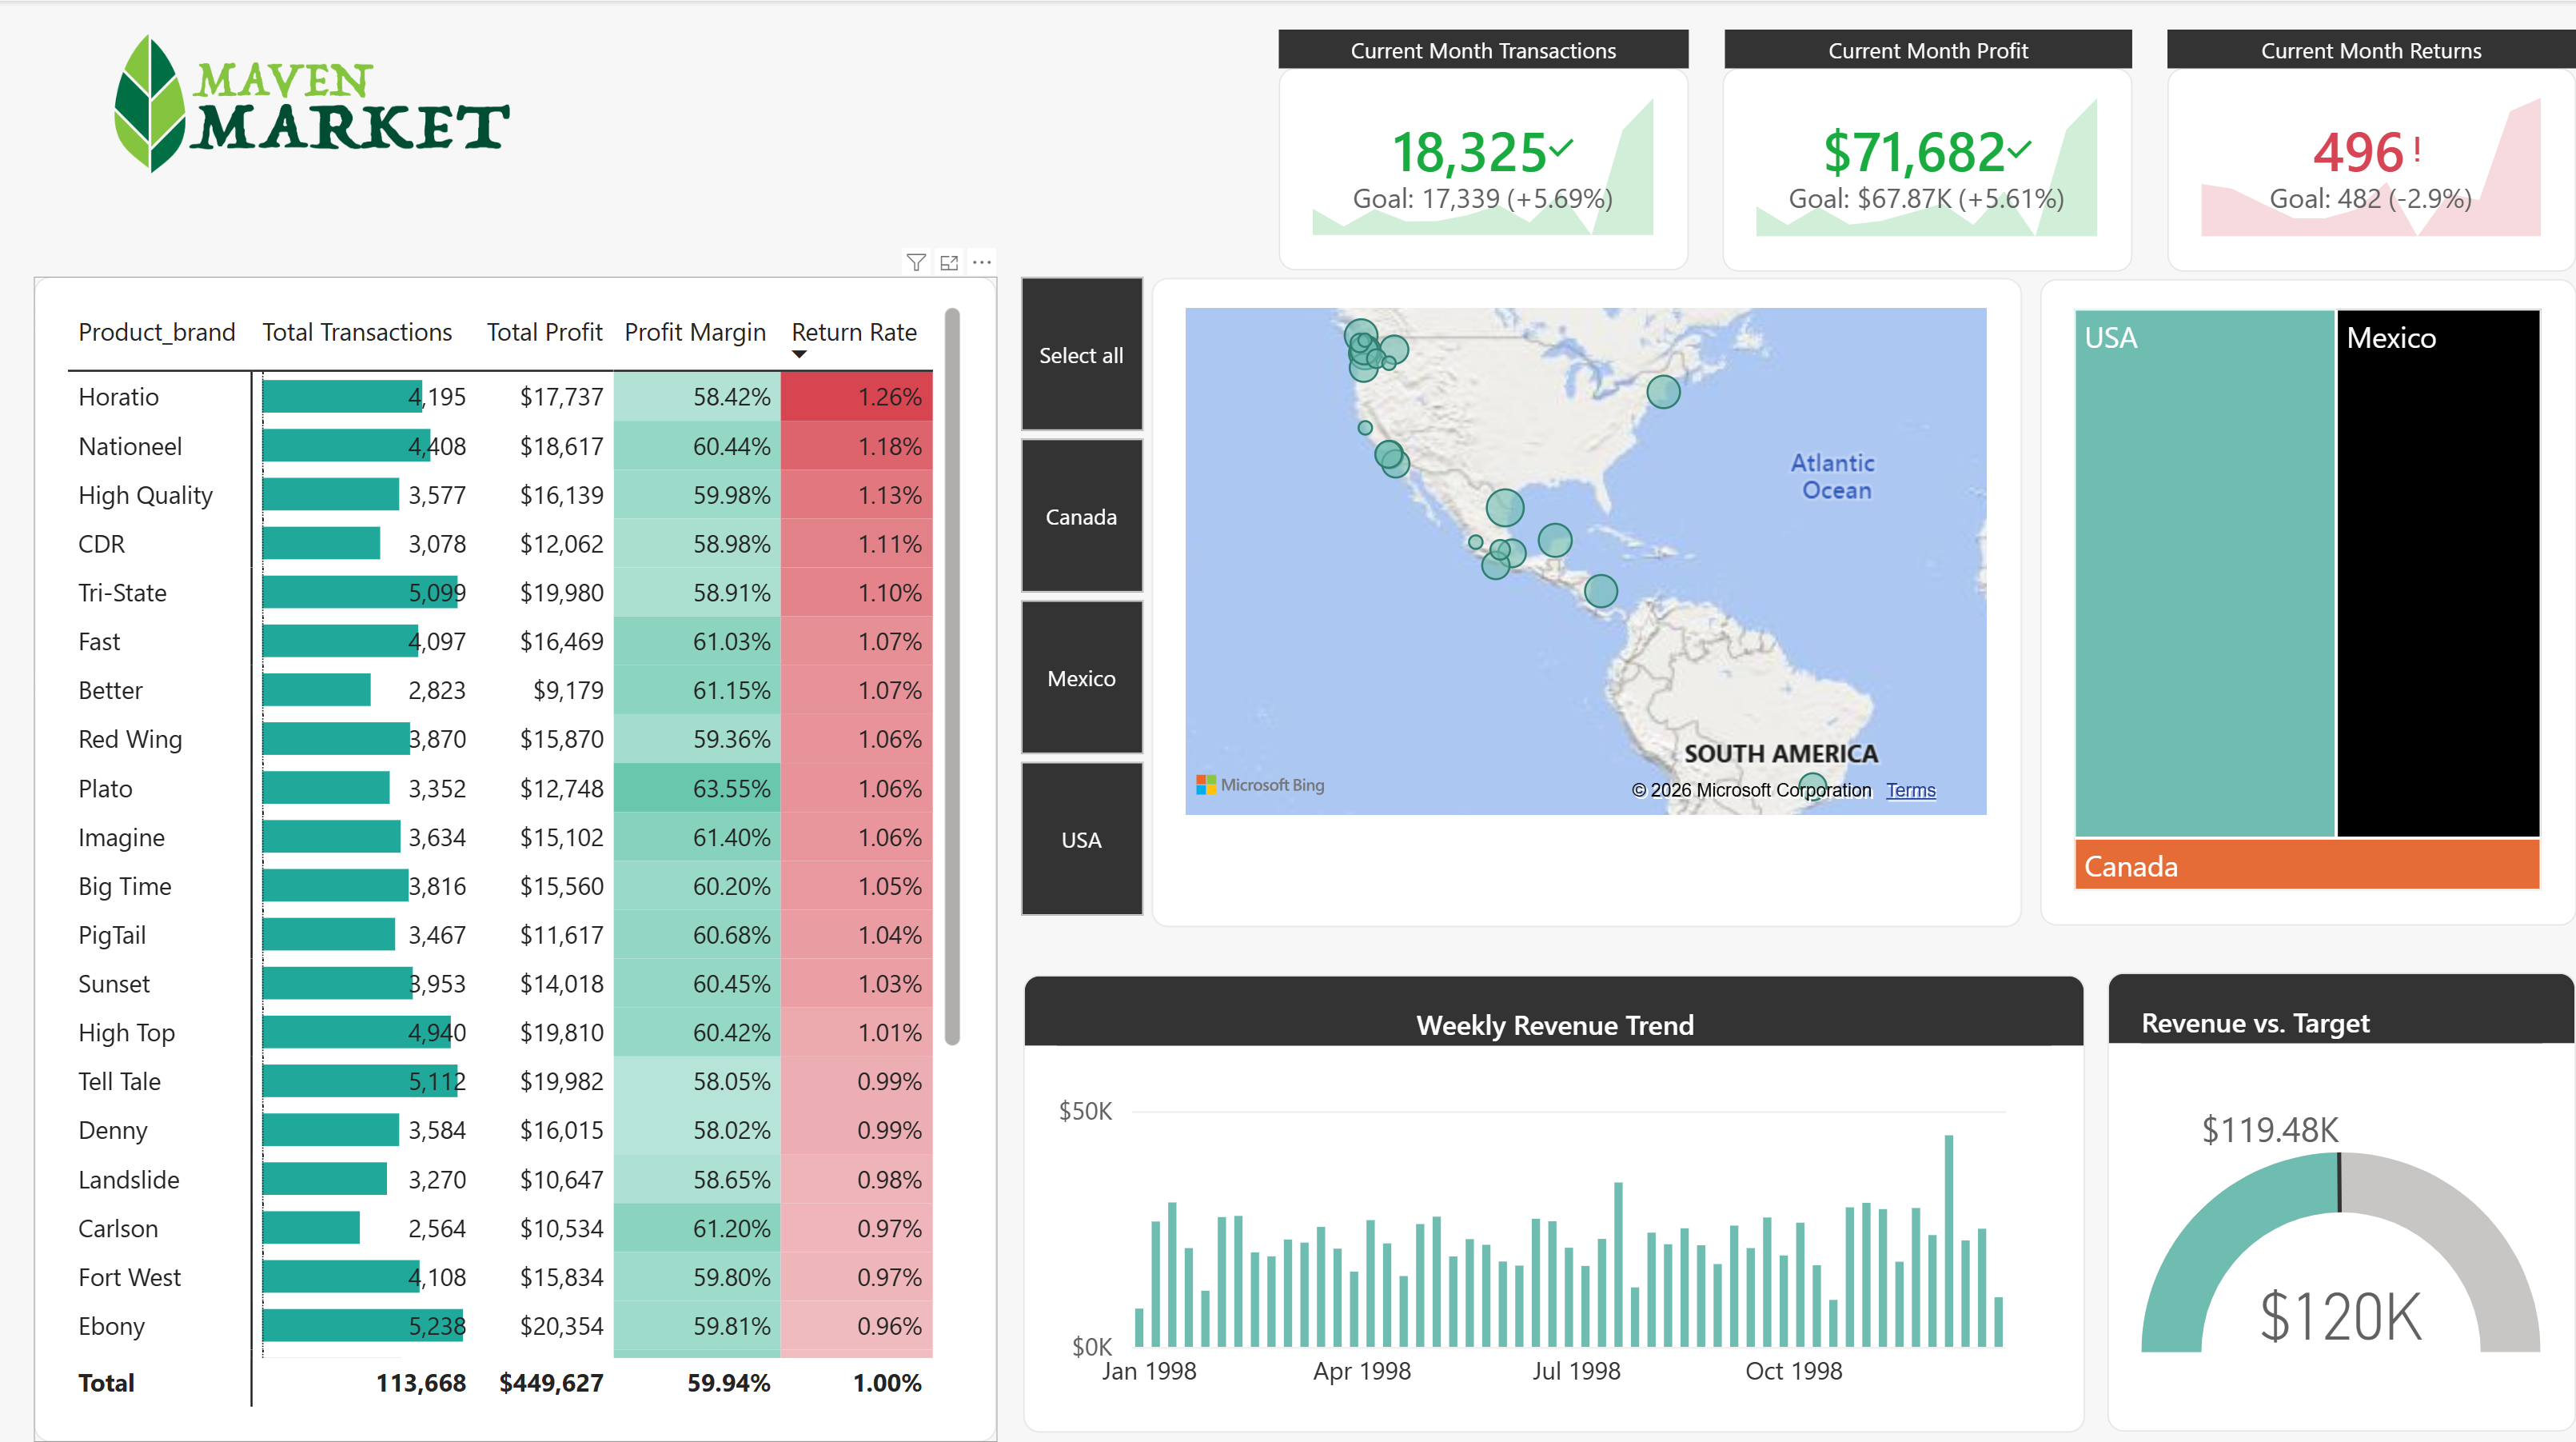

The dashboard page shown, as its layout file describes it:
{"tool":"powerbi","page":{"name":"Topline Performance","canvas":[1280,720],"ordinal":0},"visuals":[{"type":"image","box":[40.4,11,226.8,77.8],"z":0},{"type":"kpi","title":"Current Month Transaction","fields":{"Goal":["Measures (2).Last Month Transactions"],"Indicator":["Measures (2).Total Transactions"],"TrendLine":["Calendar.Start of Month"]},"box":[629.3,32.9,201.4,99.5],"z":0,"group":"g1"},{"type":"kpi","title":"Current Month Profit","fields":{"Goal":["Measures (2).Last Month Profit"],"Indicator":["Measures (2).Total Profit"],"TrendLine":["Calendar.Start of Month"]},"box":[847.6,32.9,201.4,100.1],"z":0,"group":"g2"},{"type":"kpi","title":"Current Month Transaction","fields":{"Goal":["Measures (2).Last Month Returns"],"Indicator":["Measures (2).Total Returns"],"TrendLine":["Calendar.Start of Month"]},"box":[1065.9,32.9,200.8,100.1],"z":0,"group":"g3"},{"type":"shape","box":[629.3,13.9,201.4,19],"z":1000,"group":"g1"},{"type":"shape","box":[848.8,13.9,200.2,19],"z":1000,"group":"g2"},{"type":"shape","box":[1065.9,13.9,200.8,19],"z":1000,"group":"g3"},{"type":"pivotTable","fields":{"Rows":["Products.product_brand"],"Values":["Measures (2).Total Transactions","Measures (2).Total Profit","Measures (2).Profit Margin","Measures (2).Return Rate"]},"box":[18,135.3,472.9,572.1],"z":1000},{"type":"group","id":"g1","title":"Group 1","box":[629.3,13.9,201.4,118.5],"z":2000},{"type":"group","id":"g2","title":"Group 2","box":[847.6,13.9,201.4,119.1],"z":3000},{"type":"group","id":"g3","title":"Group 3","box":[1065.9,13.9,200.8,119.1],"z":4000},{"type":"map","fields":{"Category":["Stores.store_city"],"Size":["Measures (2).Total Transactions"]},"box":[567.2,135.9,427.6,318.8],"z":5000},{"type":"slicer","fields":{"Values":["Stores.store_country"]},"box":[481.9,133.5,100.1,317.6],"z":6000},{"type":"treemap","fields":{"Group":["Stores.store_country","Stores.store_state","Stores.store_city","Stores.store_id"],"Values":["Measures (2).Total Revenue"]},"box":[1003.2,136.8,263.3,317.4],"z":7000},{"type":"columnChart","title":"Weekly Revenue Trend","fields":{"Category":["Calendar.Start of Week"],"Y":["Measures (2).Total Revenue"]},"box":[504.2,478.2,521.5,224.9],"z":8000},{"type":"gauge","title":"Revenue vs. Target","fields":{"TargetValue":["Measures (2).Revenue Target"],"Y":["Measures (2).Total Revenue"]},"box":[1036.4,477.2,230,225.2],"z":9000}]}

Visuals, with their boxes in screenshot pixels (x1, y1, x2, y2), scaled from the page's 1280x720 canvas onto the 2576x1442 screenshot:
image: region(82, 22, 538, 178)
"Current Month Transaction" kpi: region(1266, 66, 1672, 266)
"Current Month Profit" kpi: region(1706, 66, 2111, 266)
"Current Month Transaction" kpi: region(2145, 66, 2550, 266)
shape: region(1266, 28, 1672, 66)
shape: region(1709, 28, 2111, 66)
shape: region(2145, 28, 2550, 66)
pivotTable - Products.product_brand x Measures (2).Total Transactions: region(36, 271, 988, 1416)
"Group 1" group: region(1266, 28, 1672, 266)
"Group 2" group: region(1706, 28, 2111, 266)
"Group 3" group: region(2145, 28, 2550, 266)
map - Stores.store_city x Measures (2).Total Transactions: region(1142, 272, 2002, 911)
slicer - Stores.store_country: region(970, 267, 1171, 904)
treemap - Stores.store_country x Stores.store_state: region(2019, 274, 2549, 909)
"Weekly Revenue Trend" columnChart: region(1015, 957, 2064, 1408)
"Revenue vs. Target" gauge: region(2086, 956, 2549, 1407)
